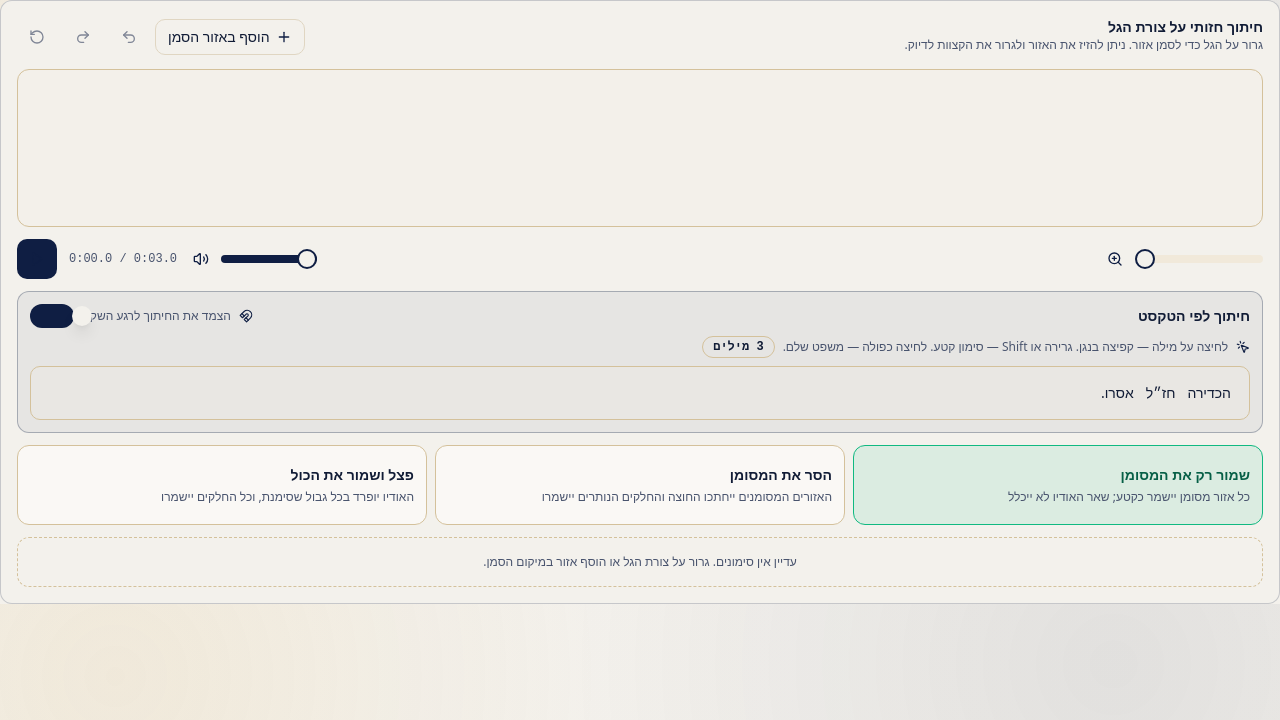
Test case: מחיקה וייצוא מתוך הטקסט › לחיצה על ייצא מעבירה את העורך למצב שמירת המסומן
// קודם מעבירים למצב אחר, כדי שהשינוי יהיה מורגש
Click the radio button labelled "פצל ושמור את הכול" at (222, 485), box top-left (17, 445), bottom-right (427, 525)
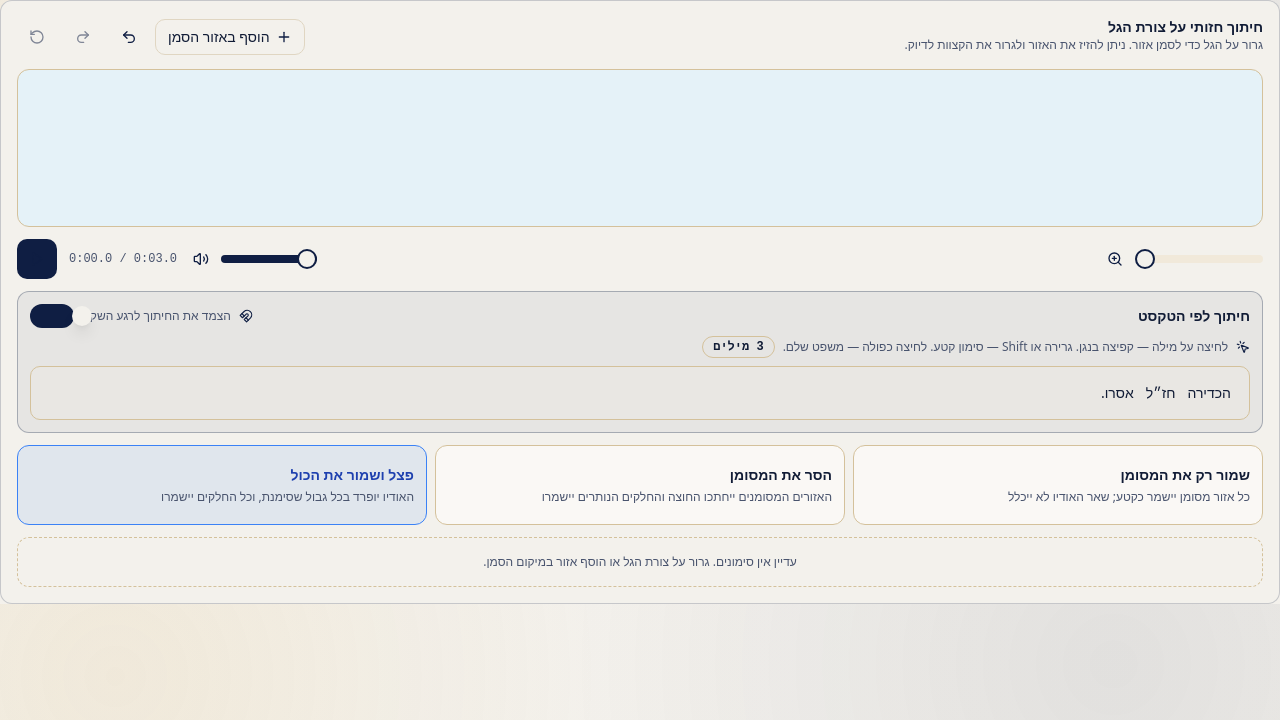
Press the mouse on the button "חז״ל" at (1161, 393), box top-left (1142, 381), bottom-right (1179, 405)
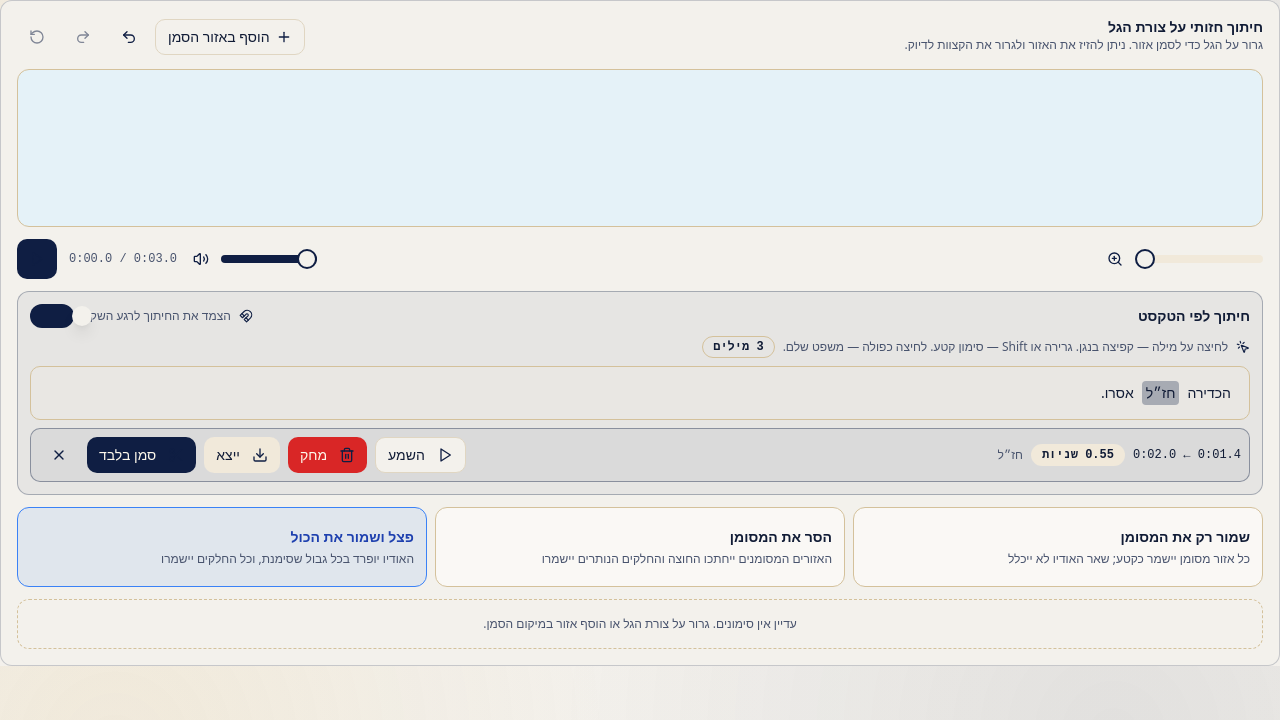
Click the button with test id "export-selection" at (242, 455), box top-left (204, 437), bottom-right (280, 473)
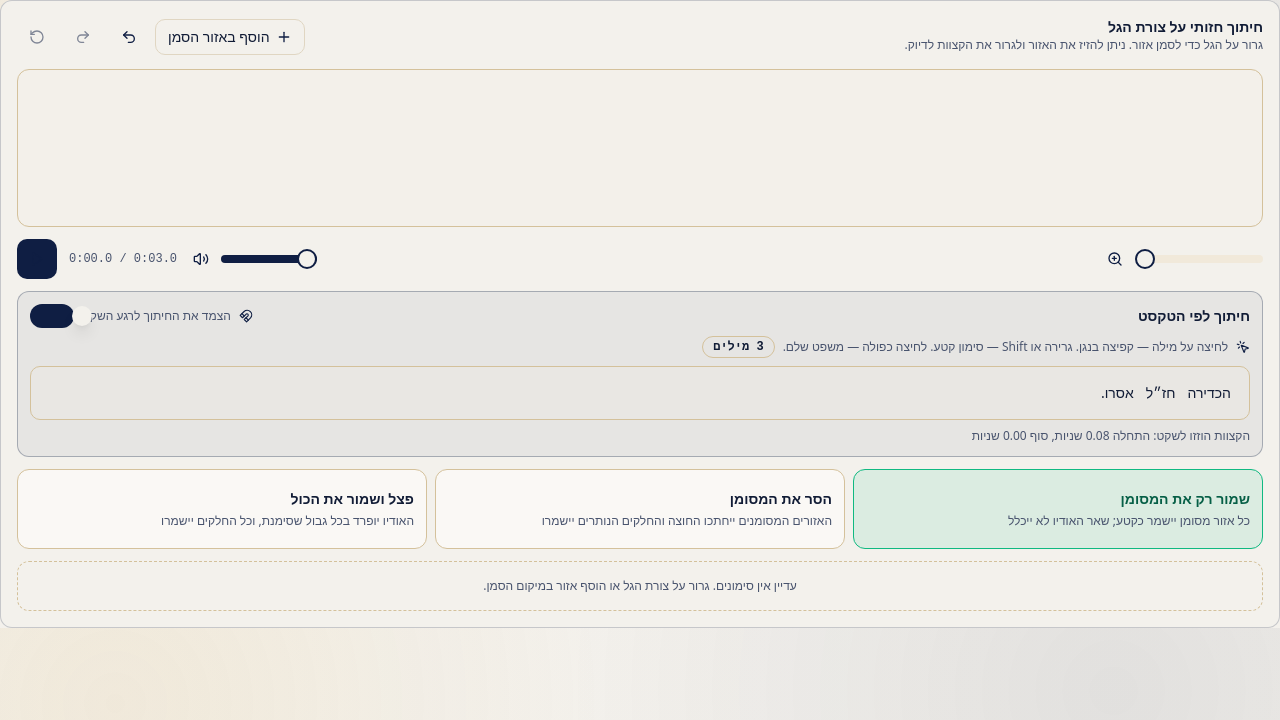
Check: the radio button labelled "שמור רק את המסומן" is checked, box top-left (853, 469), bottom-right (1263, 549)
